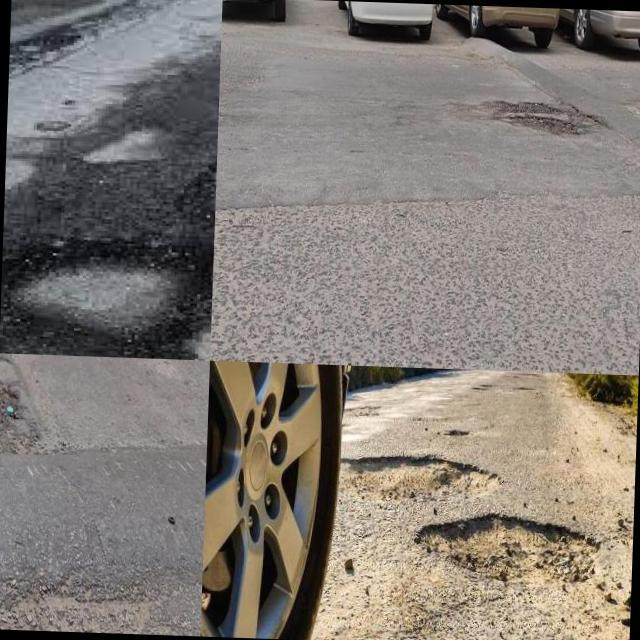Pothole: (20, 169, 216, 333), (416, 514, 599, 588), (337, 454, 500, 502), (488, 98, 589, 138)
